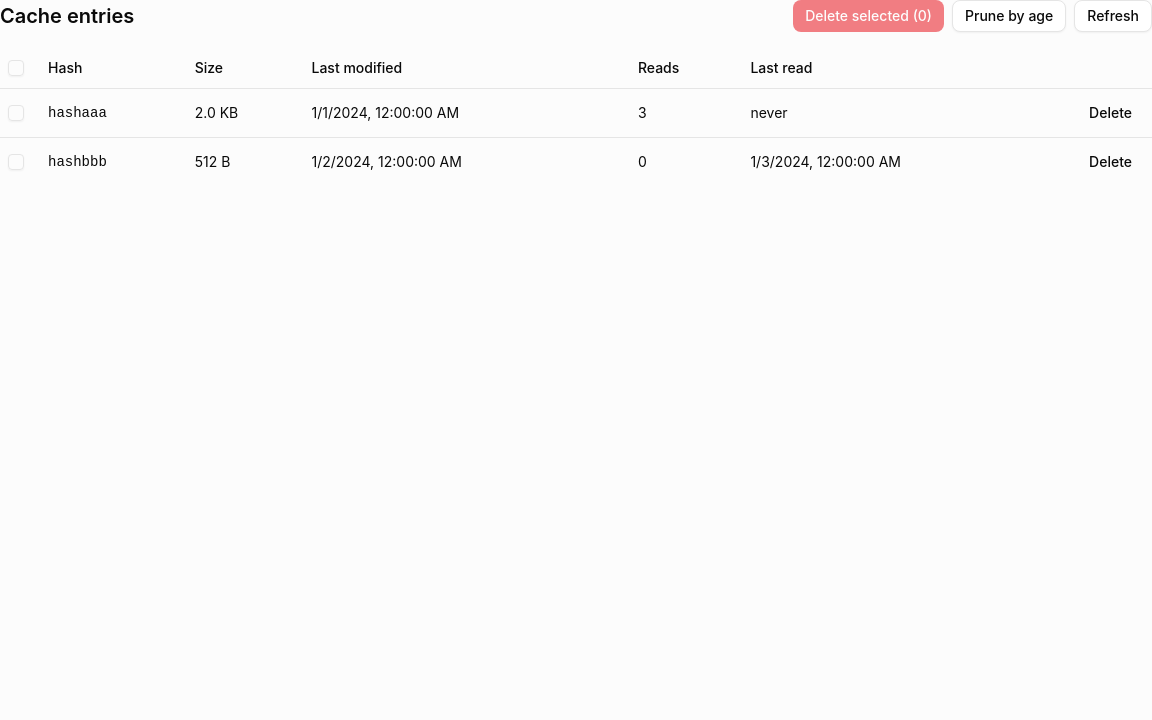
CachePage › deletes a single entry via its row's confirm dialog
Expected: the text "hashaaa" is shown, [40,88,187,137]
Click the button "Delete" in the row of "hashaaa" at (1111, 112), box [1077,96,1144,128]
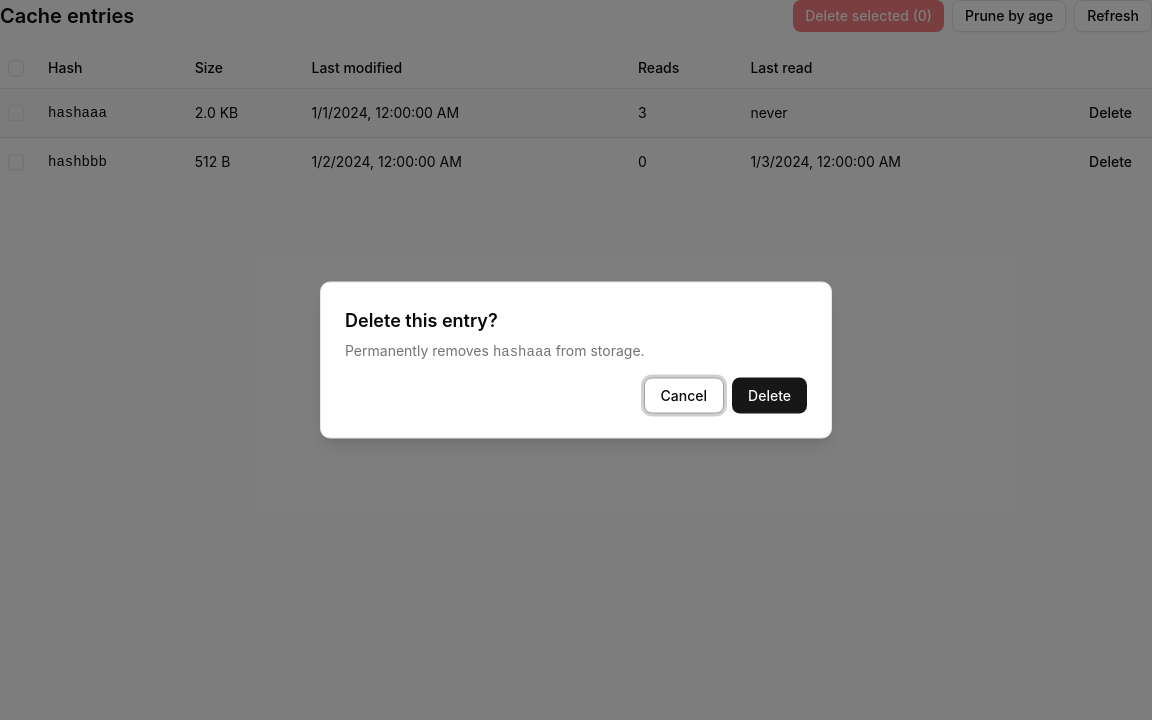
Now the heading "Delete this entry?" is shown, box [345,306,498,334]
Click the button "Delete" at (770, 396), box [732,378,807,414]
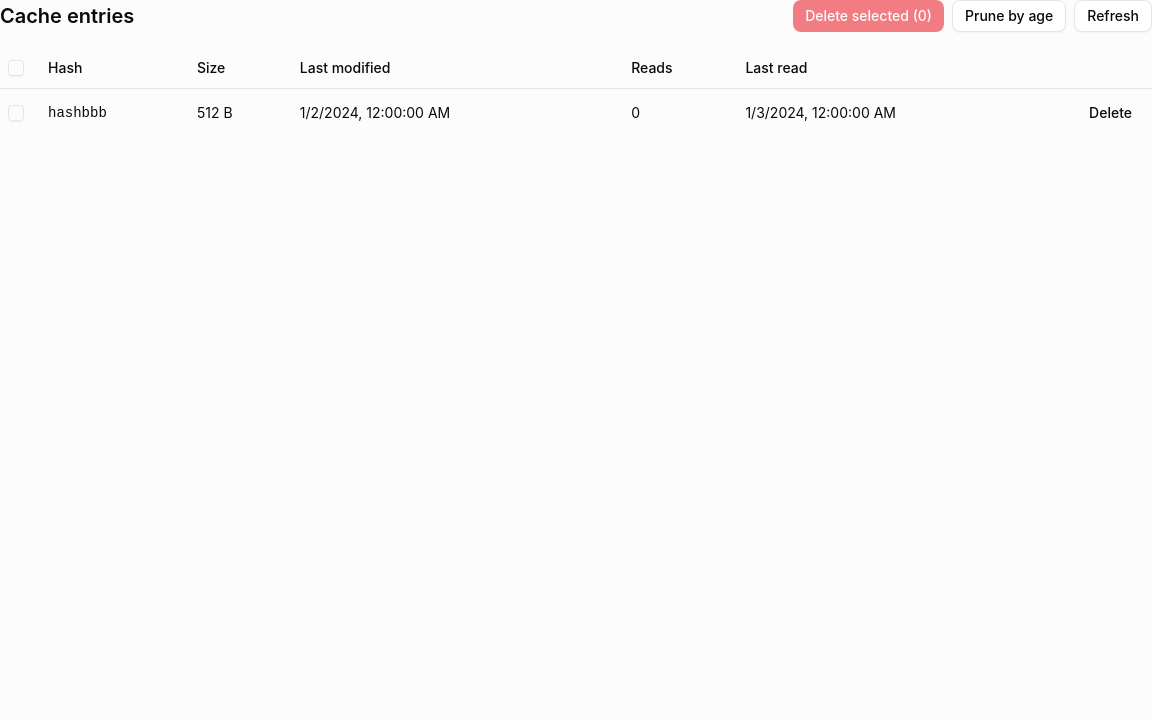
Now the text "hashaaa" is gone
